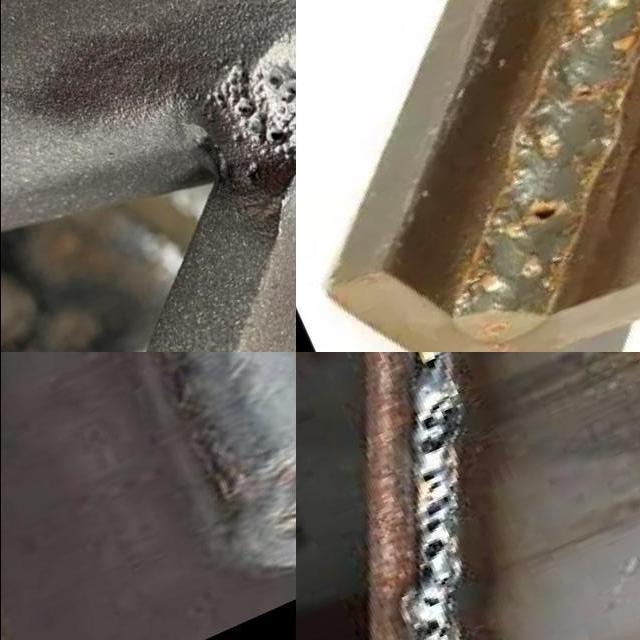defect: (199, 68, 295, 154), (413, 397, 465, 457), (413, 468, 448, 536), (416, 534, 446, 585), (265, 69, 295, 112), (417, 613, 459, 640), (531, 201, 564, 224), (574, 83, 604, 102), (420, 352, 445, 374), (418, 593, 443, 611)
